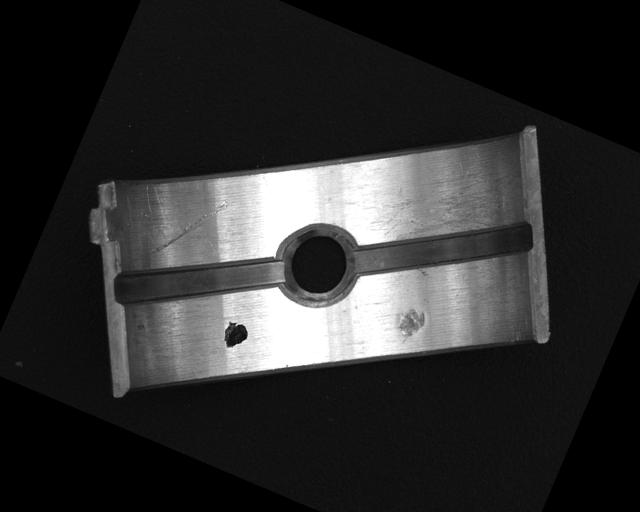blot: (218, 317, 252, 353)
bruise: (390, 302, 430, 349)
gap: (348, 165, 538, 333), (108, 206, 289, 359)
hole: (268, 211, 367, 317)
nick: (152, 180, 231, 274)
scratch: (368, 135, 522, 277)
